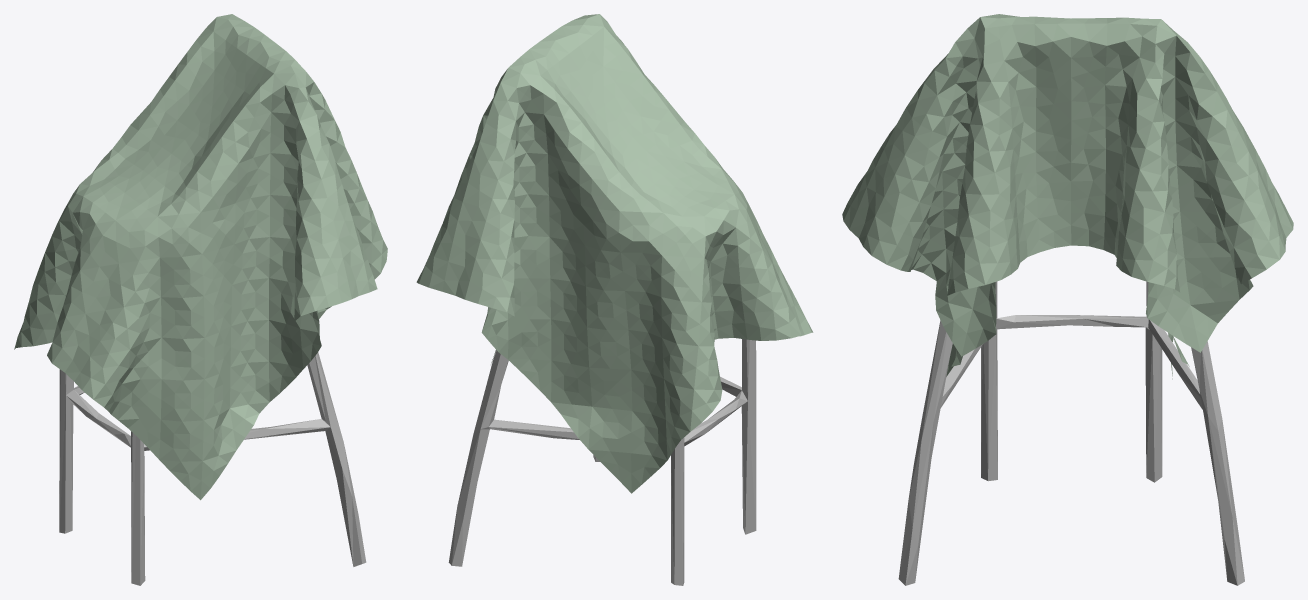
File: level_1.glb
3 renders of one model, left to right at view 1: azimuth 30°, elevation 25°; view 2: azimuth 150°, elevation 25°; view 3: azimuth 270°, elevation 25°, orthographic. The views are drawn at different scales.
Visible parts, largest first — view 1: world, object.obj; view 2: world, object.obj; view 3: world, object.obj.
Part boxes in pixels (x1=…): world: x1=14, y1=14, x2=387, y2=500; object.obj: x1=59, y1=352, x2=366, y2=585; world: x1=416, y1=14, x2=813, y2=493; object.obj: x1=448, y1=339, x2=756, y2=585; world: x1=842, y1=14, x2=1293, y2=379; object.obj: x1=898, y1=281, x2=1244, y2=585.
Bounding box in the file's own units: 0.2893 × 0.4257 × 0.3162.
